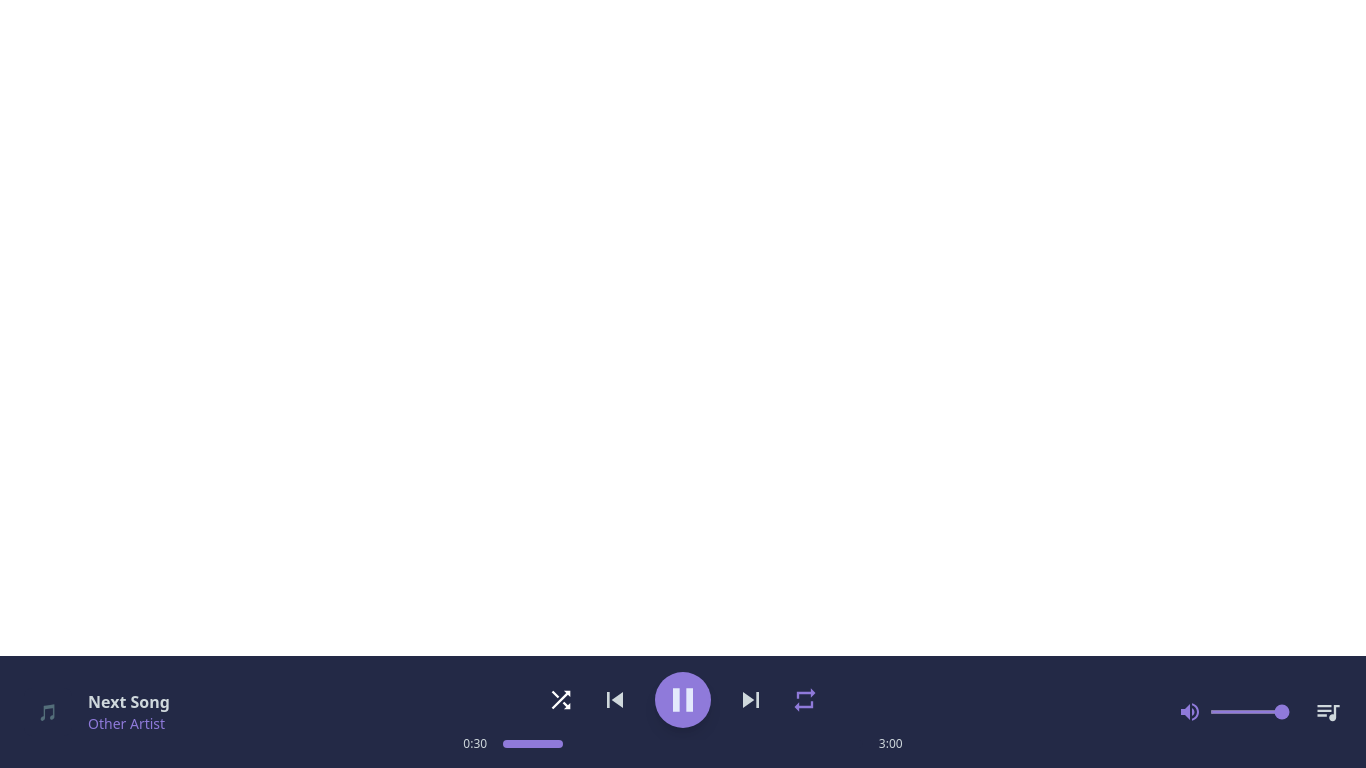
Test: Player › should wrap to first track on next at end with repeat all
The image size is (1366, 768).
Click the button titled "Next" at (751, 700), box x1=735 y1=684 x2=767 y2=716
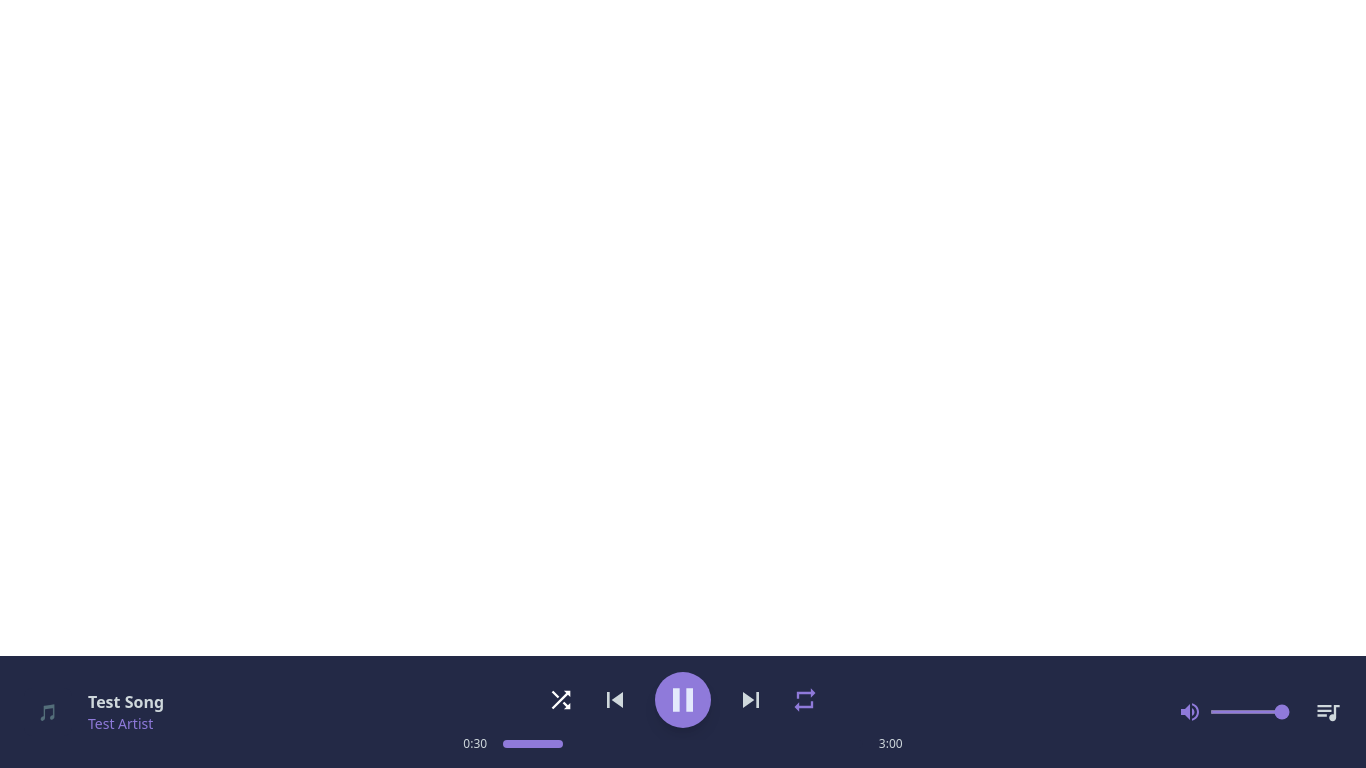
Result: the text "Test Song" is shown at x1=88 y1=690 x2=164 y2=714
